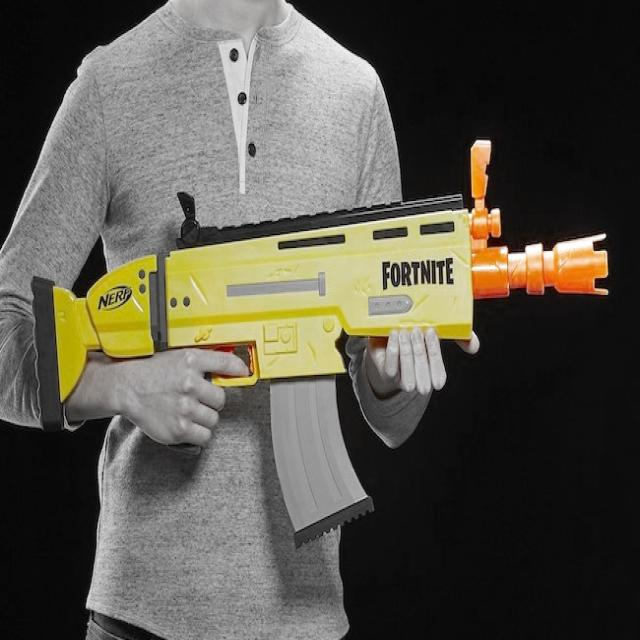Nerf gun: (29, 120, 613, 552)
